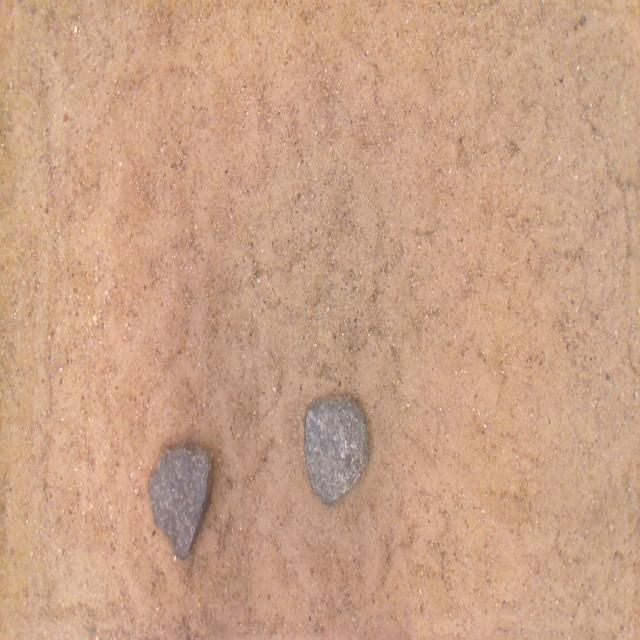rock: (148, 444, 212, 559), (304, 396, 369, 503)
